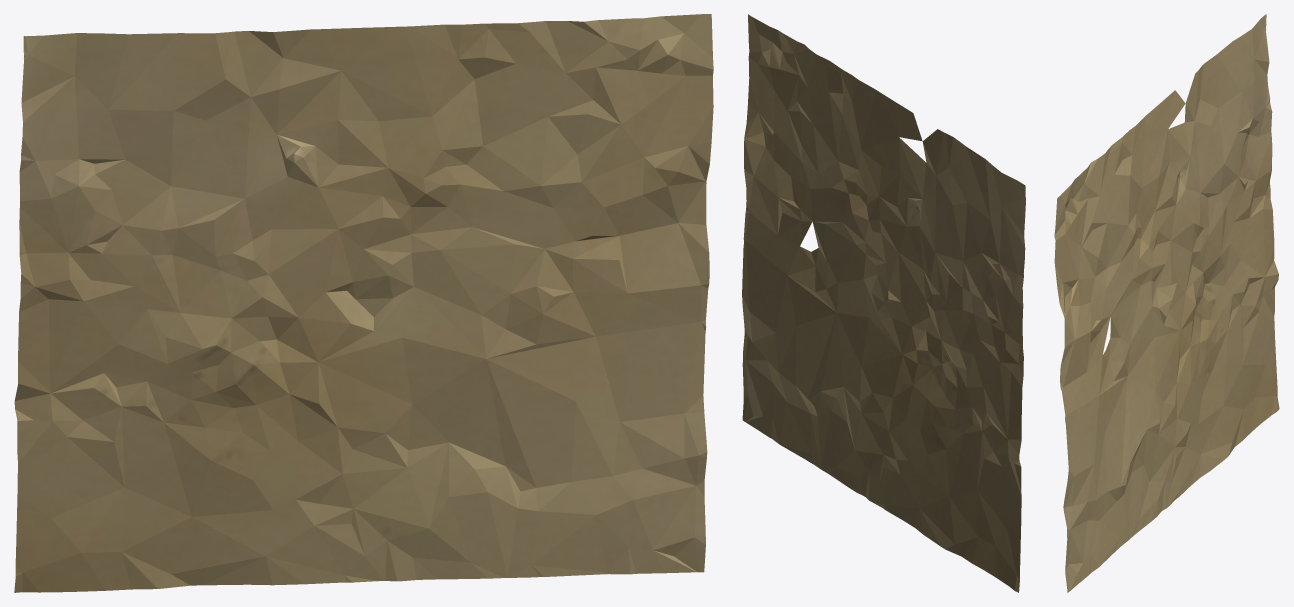
3 renders of one model, left to right at view 1: azimuth 30°, elevation 25°; view 2: azimuth 150°, elevation 25°; view 3: azimuth 270°, elevation 25°, orthographic. The views are drawn at different scales.
Bounding box in the file's own units: 1.67 × 1.67 × 0.8656.
3 materials, 3 textured.
